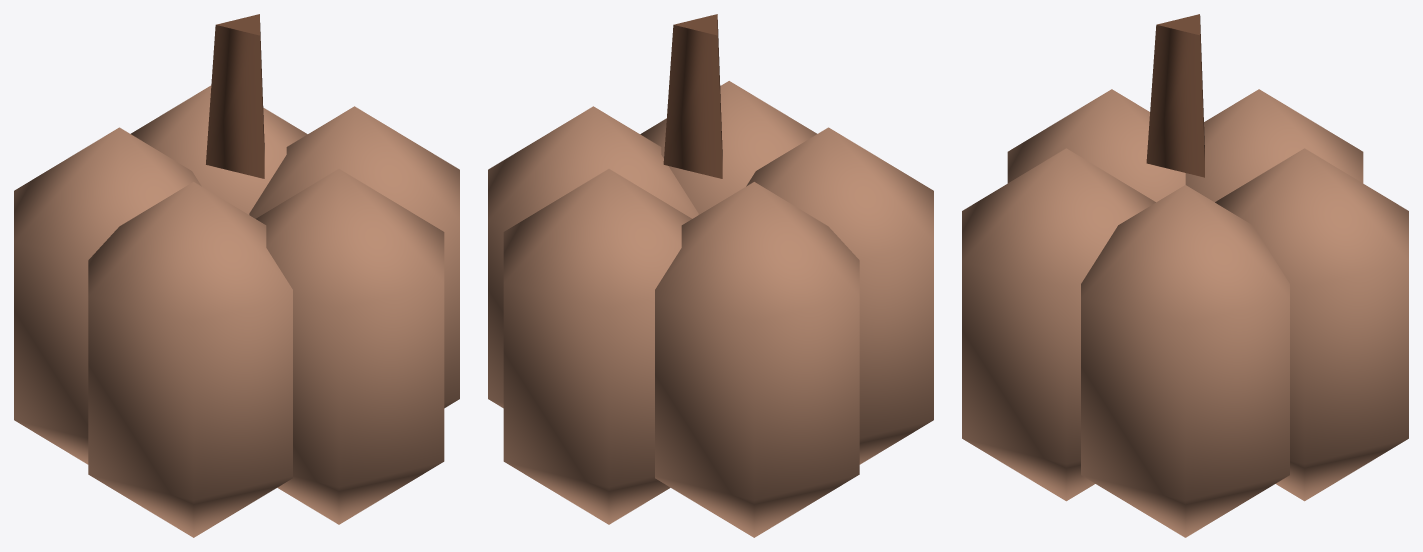
The model's file is fixed-fruit-lod2.glb.
3 renders of one model, left to right at view 1: azimuth 30°, elevation 25°; view 2: azimuth 150°, elevation 25°; view 3: azimuth 270°, elevation 25°, orthographic.
Parts seen in each view (by area): view 1: piece_whole; view 2: piece_whole; view 3: piece_whole.
Boxes of the visible parts, x1=… form: piece_whole: x1=14, y1=14, x2=459, y2=537; piece_whole: x1=488, y1=14, x2=933, y2=537; piece_whole: x1=962, y1=14, x2=1408, y2=537.
Size of what is drawn, in the model's own units: 0.336 by 0.365 by 0.3212.
